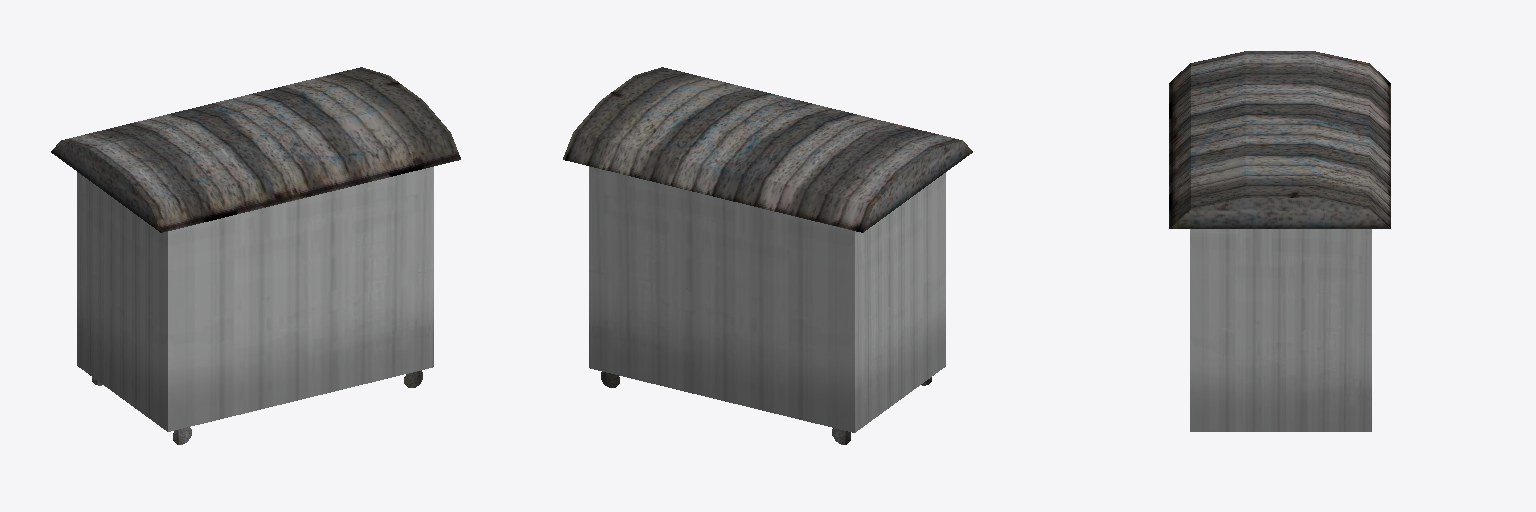
The picture shows the model from 3 angles: view 1: azimuth 30°, elevation 25°; view 2: azimuth 150°, elevation 25°; view 3: azimuth 270°, elevation 25°; orthographic projection.
Parts seen in each view (by area): view 1: dumpster_3; view 2: dumpster_3; view 3: dumpster_3.
Part boxes in pixels (x1,y1,x2,y2): dumpster_3: (51, 67, 460, 444); dumpster_3: (563, 67, 972, 444); dumpster_3: (1169, 51, 1390, 431).
Bounding box in the file's own units: 1.52 × 1.27 × 0.9676.
1 materials, 1 textured.